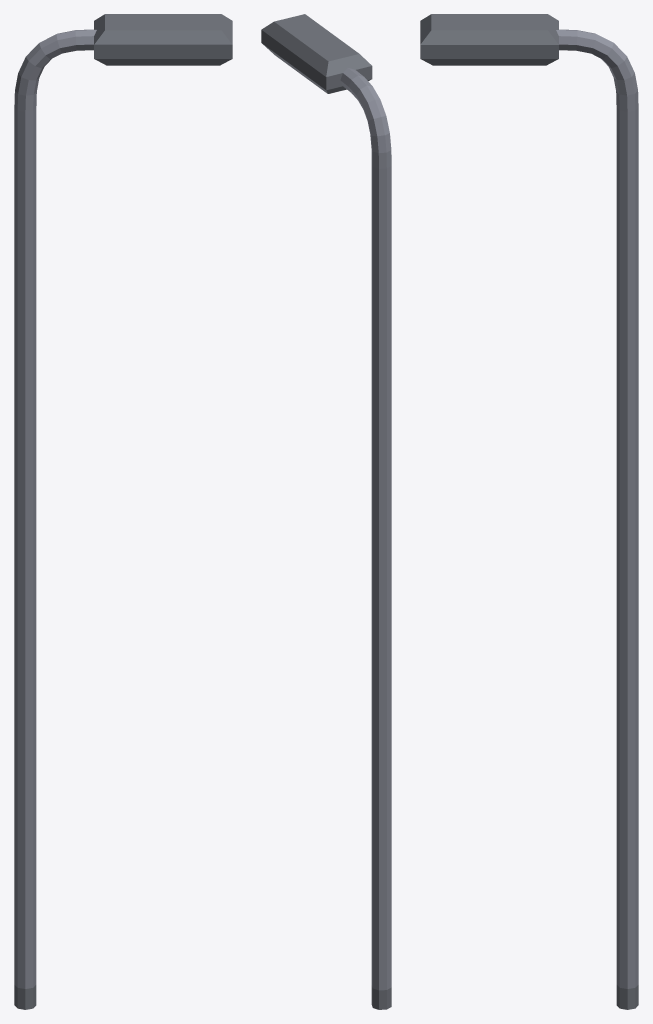
File: streetLamp.fbx
The picture shows the model from 3 angles, left to right: view 1: azimuth 90°, elevation 25°; view 2: azimuth 210°, elevation 25°; view 3: azimuth 270°, elevation 25°; orthographic projection. The views are drawn at different scales.
Visible parts, largest first — view 1: streetLamp; view 2: streetLamp; view 3: streetLamp.
Part boxes in pixels (box(x1,y1,x2,y2)): streetLamp: box(14, 14, 232, 1009); streetLamp: box(261, 14, 391, 1009); streetLamp: box(420, 14, 638, 1009).
Size of the model in its own units: 43.4 by 828 by 166.
Materials: 1 (1 with a texture image).
